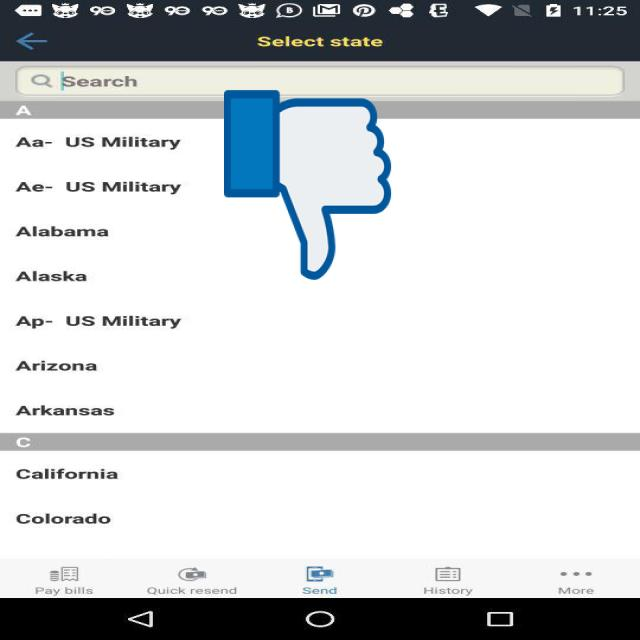obstruction: (224, 86, 391, 284)
